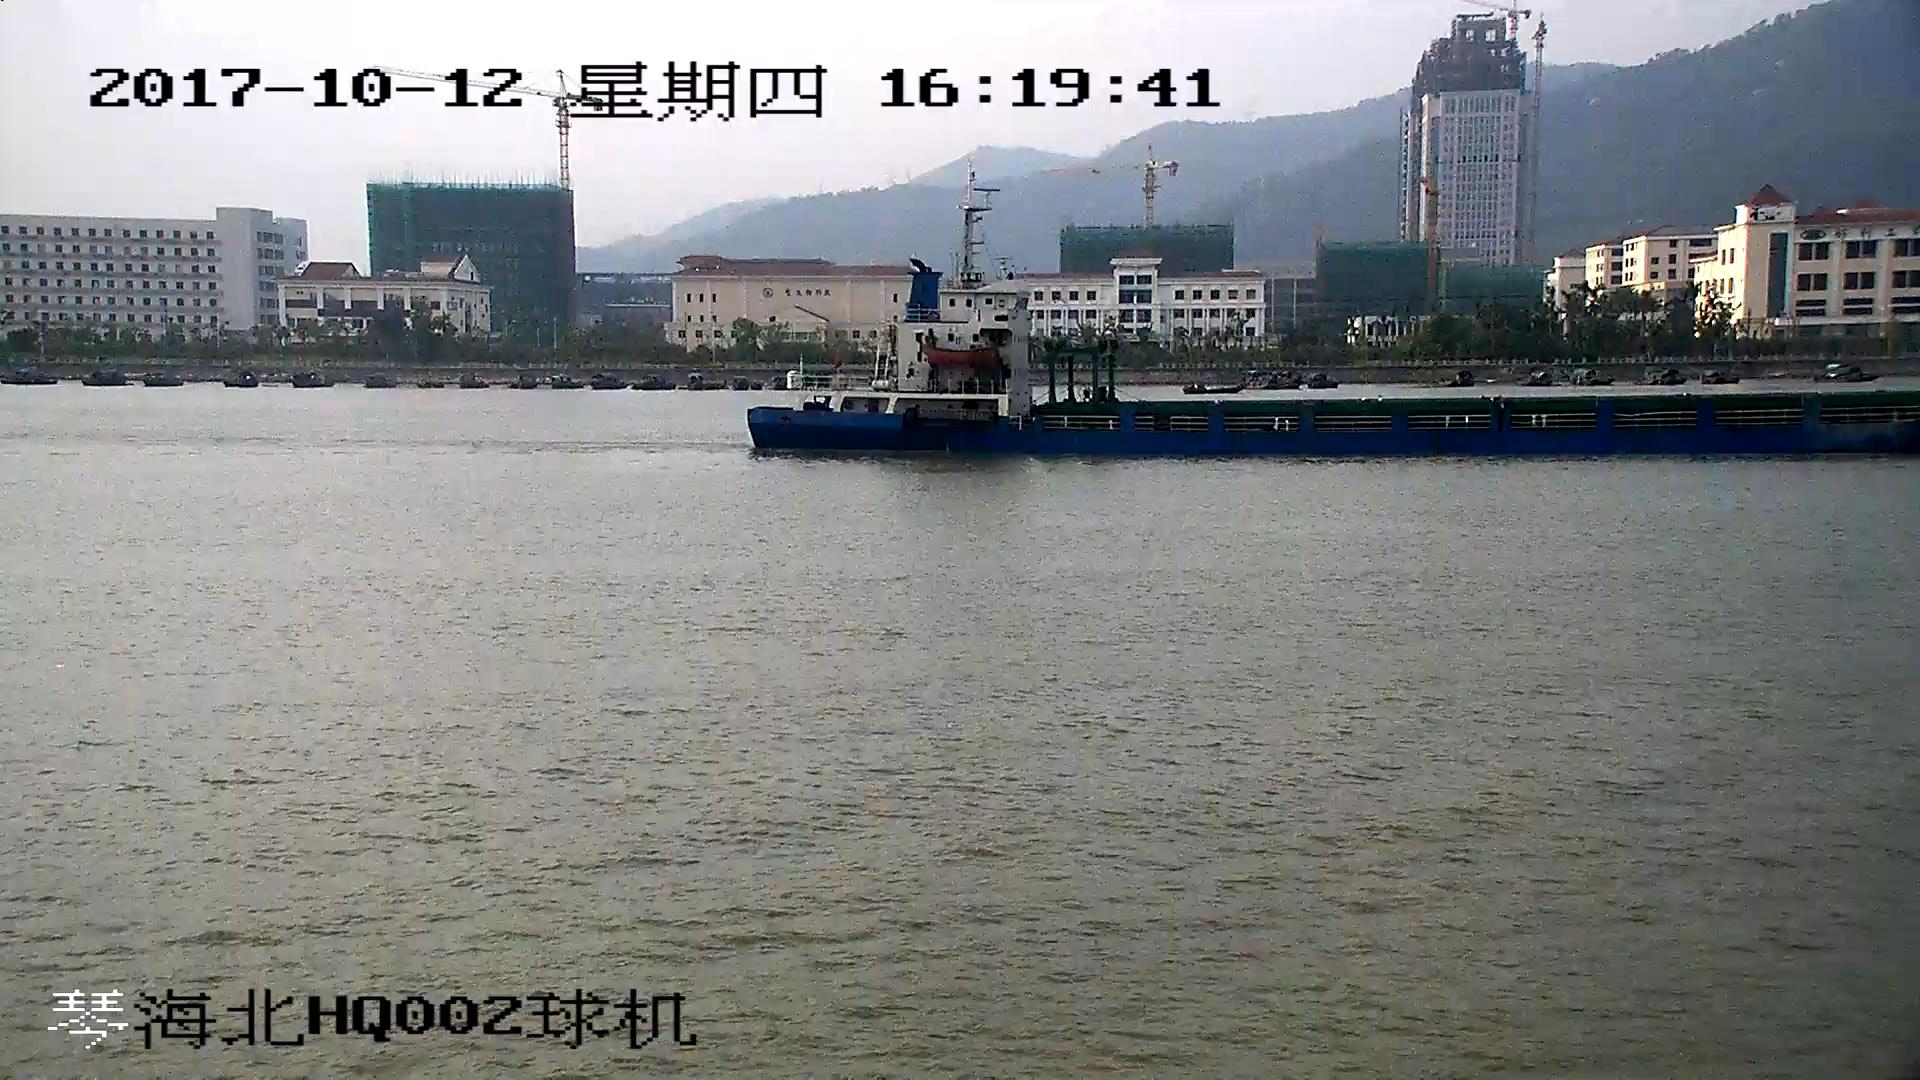general cargo ship: (737, 201, 1920, 458)
